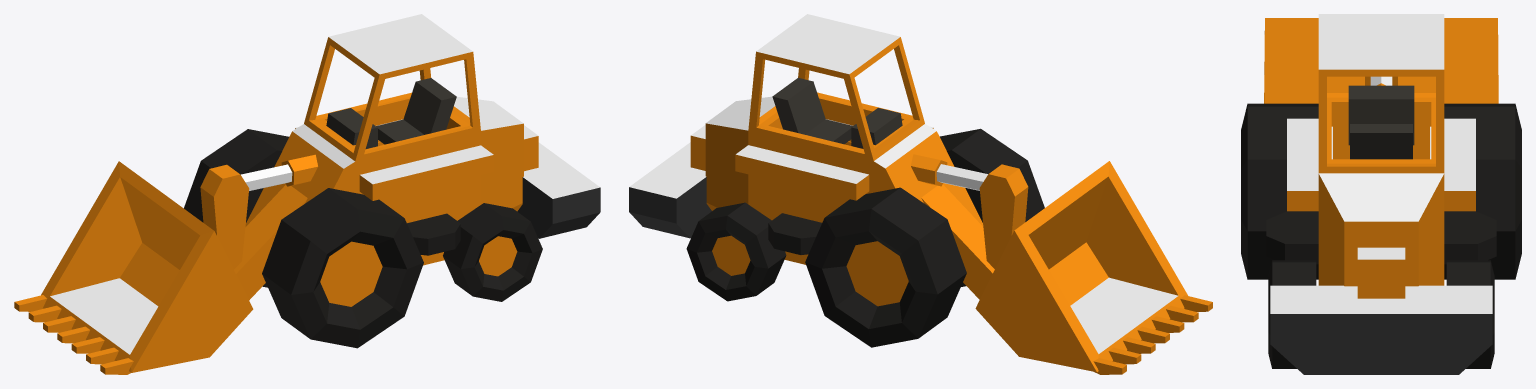
File: Frost_2x1A.fbx
3 renders of one model, left to right at view 1: azimuth 30°, elevation 25°; view 2: azimuth 150°, elevation 25°; view 3: azimuth 270°, elevation 25°, orthographic. The views are drawn at different scales.
Visible parts, largest first — view 1: xueshan_wanjueji_1_2; view 2: xueshan_wanjueji_1_2; view 3: xueshan_wanjueji_1_2.
Boxes of the visible parts, x1,y1,x2,y2 form: xueshan_wanjueji_1_2: (14, 14, 600, 374); xueshan_wanjueji_1_2: (629, 14, 1212, 374); xueshan_wanjueji_1_2: (1241, 14, 1521, 374).
Bounding box in the file's own units: 376 × 174 × 151.
1 material, 1 textured.
